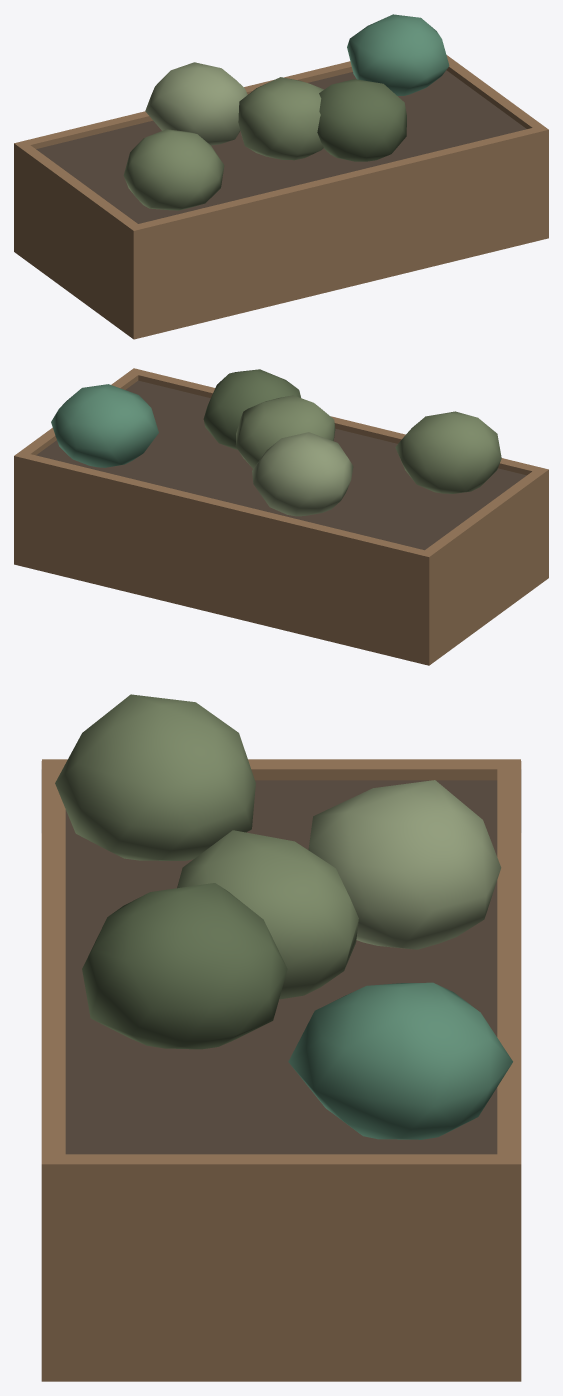
Rendered from raised-bed-Dhx1BdRC.glb.
3 views of the same model, one above another, from view 1: azimuth 30°, elevation 25°; view 2: azimuth 150°, elevation 25°; view 3: azimuth 270°, elevation 25° (orthographic). The views are drawn at different scales.
Visible parts, largest first — view 1: raised-bed; view 2: raised-bed; view 3: raised-bed.
Part boxes in pixels (x1,y1,x2,y2): raised-bed: (14,14,548,339); raised-bed: (14,368,548,665); raised-bed: (41,694,521,1381).
Bounding box in the file's own units: 2.4 × 0.9335 × 1.2.
